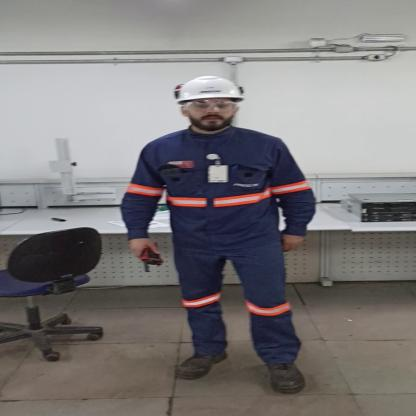Capacete: (170, 74, 248, 104)
